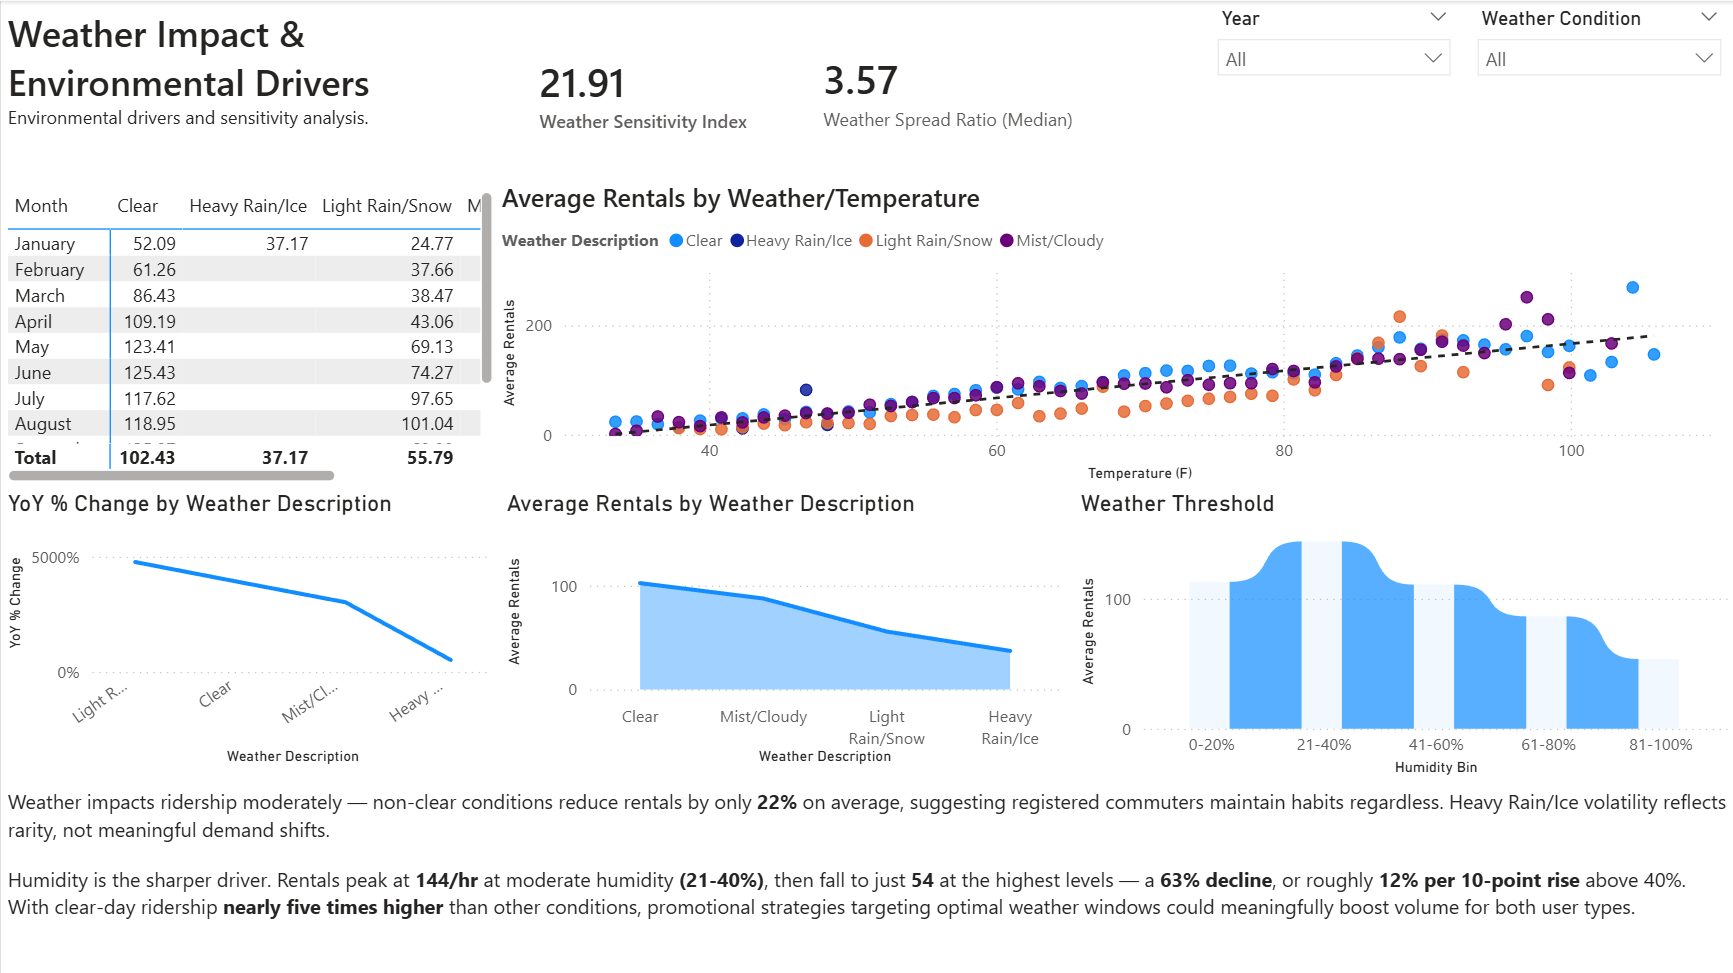

This screenshot's page, from the dashboard's own definition file:
{"tool":"powerbi","page":{"name":"Weather Impact","canvas":[1280,720],"ordinal":3},"visuals":[{"type":"slicer","fields":{"Values":["public dim_weather.weather_description"]},"box":[1080,0,200,88],"z":0},{"type":"lineChart","fields":{"Y":["public view_fact_bike_rentals.YoY % Change"],"Category":["public view_fact_bike_rentals.weather_desc"]},"box":[0,360,368,208],"z":1000},{"type":"pivotTable","fields":{"Values":["public view_fact_bike_rentals.Average Rentals"],"Rows":["public dim_date.month_name"],"Columns":["public dim_weather.weather_description"]},"box":[0,136,368,224],"z":2000},{"type":"areaChart","fields":{"Category":["public view_fact_bike_rentals.weather_desc"],"Y":["public view_fact_bike_rentals.Average Rentals"]},"box":[368,360,424,208],"z":3000},{"type":"scatterChart","title":"Average Rentals by Weather/Temperature","fields":{"X":["public view_fact_bike_rentals.temp_f"],"Y":["public view_fact_bike_rentals.Average Rentals"],"Series":["public view_fact_bike_rentals.weather_desc"]},"box":[364.9,132.3,915.1,227],"z":4000},{"type":"ribbonChart","title":"Weather Threshold","fields":{"Y":["public view_fact_bike_rentals.Average Rentals"],"Category":["public view_fact_bike_rentals.Humidity Bin"]},"box":[792,360,488,216],"z":5000},{"type":"textbox","box":[0,0,364.9,132.3],"z":6000},{"type":"cardVisual","fields":{"Data":["public view_fact_bike_rentals.Weather Sensitivity Index"]},"box":[368,0,248,136],"z":7000},{"type":"cardVisual","fields":{"Data":["public view_fact_bike_rentals.Weather Spread Ratio (Median)"]},"box":[578,0,305,132.3],"z":8000},{"type":"textbox","box":[0,576,1280,144],"z":9000},{"type":"slicer","fields":{"Values":["public dim_date.yr"]},"box":[888,0,192,88],"z":10000}]}

Visuals, with their boxes in screenshot pixels (x1, y1, x2, y2), scaled from the page's 1280x720 canvas onto the 1733x973 screenshot:
slicer - public dim_weather.weather_description: <bbox>1462, 0, 1732, 119</bbox>
lineChart - public view_fact_bike_rentals.YoY % Change x public view_fact_bike_rentals.weather_desc: <bbox>0, 487, 498, 768</bbox>
pivotTable - public view_fact_bike_rentals.Average Rentals x public dim_date.month_name: <bbox>0, 184, 498, 487</bbox>
areaChart - public view_fact_bike_rentals.weather_desc x public view_fact_bike_rentals.Average Rentals: <bbox>498, 487, 1072, 768</bbox>
"Average Rentals by Weather/Temperature" scatterChart: <bbox>494, 179, 1732, 486</bbox>
"Weather Threshold" ribbonChart: <bbox>1072, 487, 1732, 778</bbox>
textbox: <bbox>0, 0, 494, 179</bbox>
cardVisual - public view_fact_bike_rentals.Weather Sensitivity Index: <bbox>498, 0, 834, 184</bbox>
cardVisual - public view_fact_bike_rentals.Weather Spread Ratio (Median): <bbox>783, 0, 1195, 179</bbox>
textbox: <bbox>0, 778, 1732, 972</bbox>
slicer - public dim_date.yr: <bbox>1202, 0, 1462, 119</bbox>
